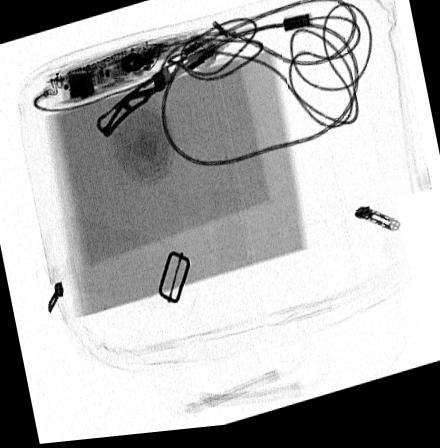Knife: (96, 45, 218, 139)
